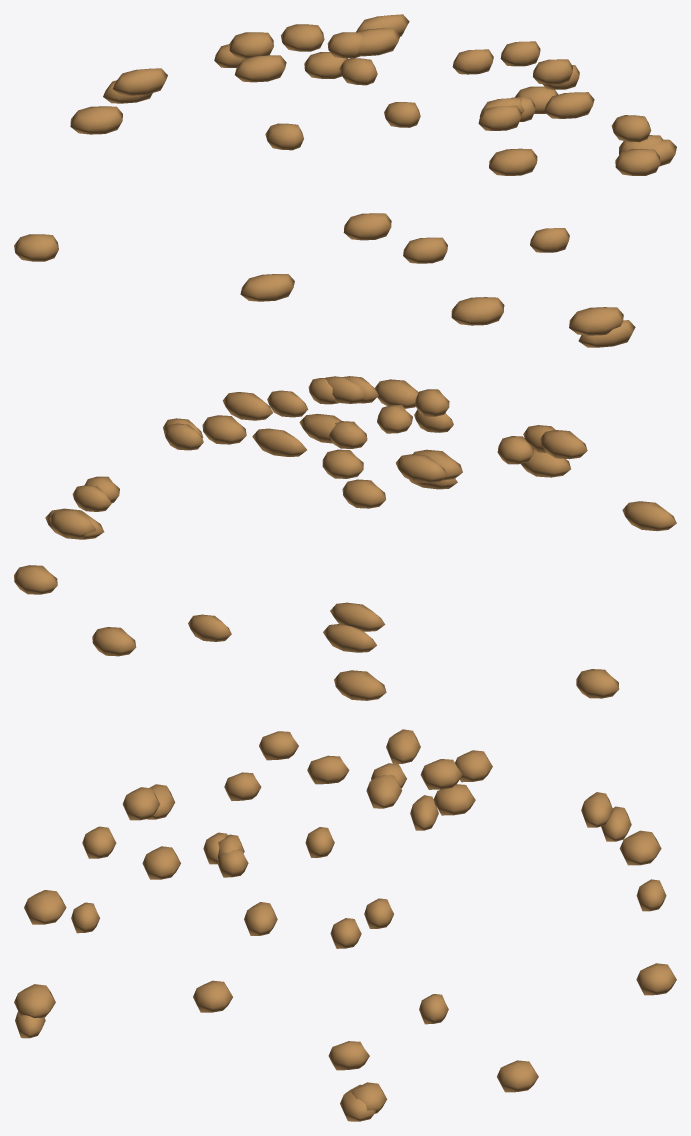
Rendered from sweet-nuts.glb.
3 renders of one model, top to bottom at view 1: azimuth 30°, elevation 25°; view 2: azimuth 150°, elevation 25°; view 3: azimuth 270°, elevation 25°, orthographic. The views are drawn at different scales.
Visible parts, largest first — view 1: Chopped toasted almond.006, Chopped toasted almond.029, Chopped toasted almond.024, Chopped toasted almond.033, Chopped toasted almond.014, Chopped toasted almond.023, Chopped toasted almond.002, Chopped toasted almond.031, Chopped toasted almond.008, Chopped toasted almond.026, Chopped toasted almond.005, Chopped toasted almond.027 (+17 smaller); view 2: Chopped toasted almond.024, Chopped toasted almond.033, Chopped toasted almond.023, Chopped toasted almond, Chopped toasted almond.025, Chopped toasted almond.014, Chopped toasted almond.008, Chopped toasted almond.031, Chopped toasted almond.007, Chopped toasted almond.026, Chopped toasted almond.005, Chopped toasted almond.011 (+18 smaller); view 3: Chopped toasted almond.029, Chopped toasted almond.024, Chopped toasted almond.006, Chopped toasted almond.007, Chopped toasted almond.027, Chopped toasted almond.026, Chopped toasted almond.011, Chopped toasted almond.005, Chopped toasted almond.002, Chopped toasted almond.031, Chopped toasted almond.003, Chopped toasted almond.034 (+19 smaller).
Part boxes in pixels (box(x1,y1,x2,y2)): Chopped toasted almond.006: box(569, 307, 623, 335); Chopped toasted almond.029: box(451, 297, 504, 325); Chopped toasted almond.024: box(70, 106, 122, 134); Chopped toasted almond.033: box(240, 274, 294, 301); Chopped toasted almond.014: box(113, 68, 167, 95); Chopped toasted almond.023: box(235, 55, 286, 82); Chopped toasted almond.002: box(489, 148, 537, 175); Chopped toasted almond.031: box(343, 213, 391, 240); Chopped toasted almond.008: box(544, 92, 594, 118); Chopped toasted almond.026: box(14, 234, 58, 261); Chopped toasted almond.005: box(615, 149, 660, 175); Chopped toasted almond.027: box(281, 24, 324, 51); Chopped toasted almond.024: box(334, 670, 386, 700); Chopped toasted almond.033: box(622, 501, 676, 531); Chopped toasted almond.023: box(396, 454, 447, 483); Chopped toasted almond: box(323, 624, 376, 652); Chopped toasted almond.025: box(252, 428, 306, 456); Chopped toasted almond.014: box(330, 602, 385, 631); Chopped toasted almond.008: box(222, 392, 272, 420); Chopped toasted almond.031: box(539, 430, 587, 459); Chopped toasted almond.007: box(14, 565, 57, 594); Chopped toasted almond.026: box(576, 669, 619, 698); Chopped toasted almond.005: box(202, 415, 246, 444); Chopped toasted almond.011: box(92, 627, 136, 656); Chopped toasted almond.029: box(24, 890, 66, 924); Chopped toasted almond.024: box(619, 830, 661, 865); Chopped toasted almond.006: box(14, 984, 55, 1018); Chopped toasted almond.007: box(497, 1060, 538, 1092); Chopped toasted almond.027: box(420, 759, 462, 789); Chopped toasted almond.026: box(433, 784, 475, 815); Chopped toasted almond.011: box(636, 963, 676, 995); Chopped toasted almond.005: box(193, 980, 232, 1012); Chopped toasted almond.002: box(142, 846, 180, 879); Chopped toasted almond.031: box(122, 787, 160, 820); Chopped toasted almond.003: box(366, 774, 402, 808); Chopped toasted almond.034: box(307, 755, 349, 784).
Size of the model in its own units: 1.01 by 0.3267 by 0.89.
